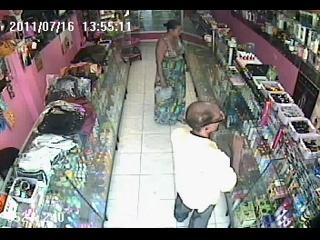Normal: (170, 101, 246, 228), (154, 20, 188, 126)
